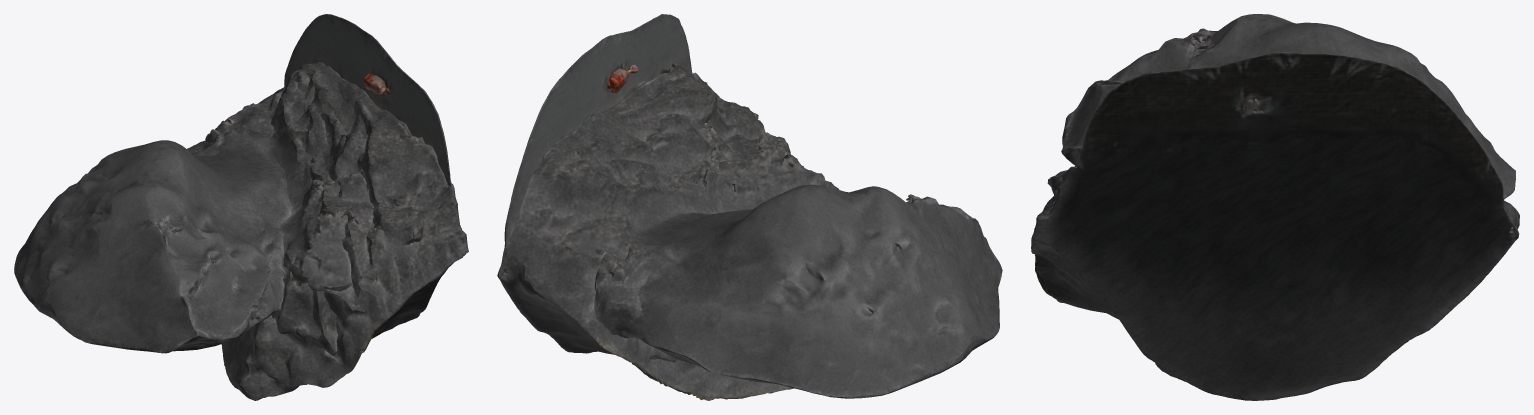
3 renders of one model, left to right at view 1: azimuth 30°, elevation 25°; view 2: azimuth 150°, elevation 25°; view 3: azimuth 270°, elevation 25°, orthographic. The views are drawn at different scales.
Visible parts, largest first — view 1: world; view 2: world; view 3: world.
Boxes of the visible parts, x1,y1,x2,y2 form: world: (14, 14, 468, 400); world: (497, 14, 1002, 400); world: (1031, 14, 1519, 400).
Bounding box in the file's own units: 1.2 × 0.9819 × 1.21.
Materials: 1 (1 with a texture image).
